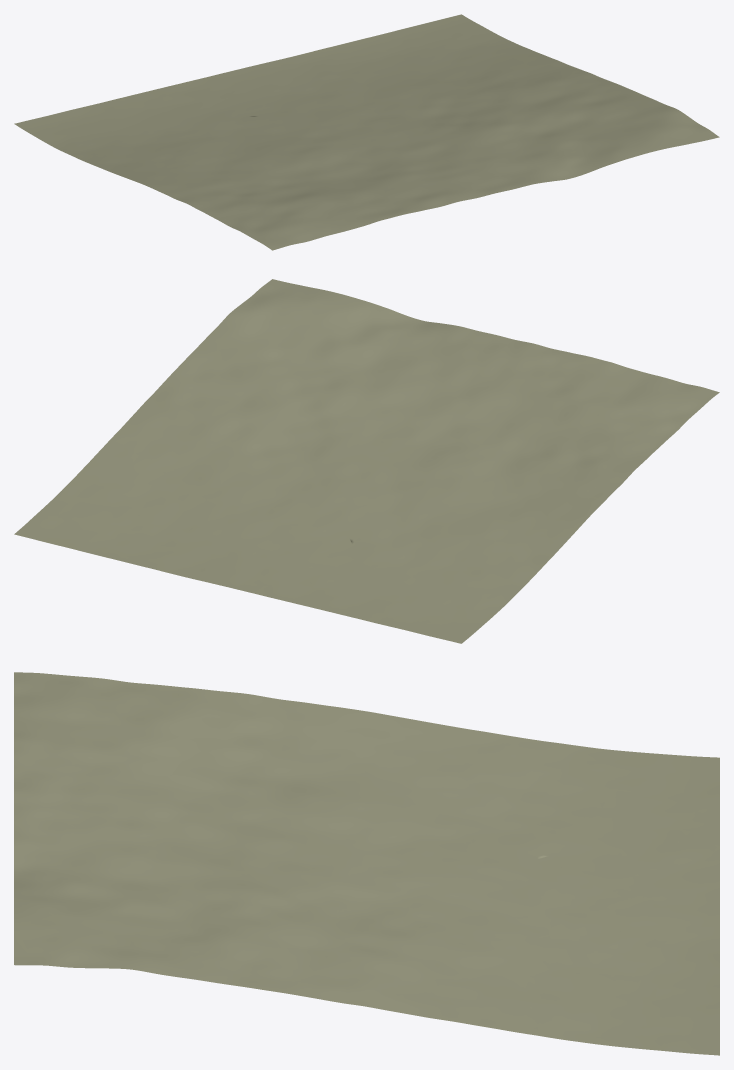
The model's file is SM_VB_CityTerrain_5_6.fbx.
The picture shows the model from 3 angles, top to bottom: view 1: azimuth 30°, elevation 25°; view 2: azimuth 150°, elevation 25°; view 3: azimuth 270°, elevation 25°; orthographic projection. The views are drawn at different scales.
Parts seen in each view (by area): view 1: SM_VB_CityTerrain_5_6; view 2: SM_VB_CityTerrain_5_6; view 3: SM_VB_CityTerrain_5_6.
Part boxes in pixels (left/top/right/bottom): SM_VB_CityTerrain_5_6: left=14, top=14, right=719, bottom=250; SM_VB_CityTerrain_5_6: left=14, top=279, right=719, bottom=643; SM_VB_CityTerrain_5_6: left=14, top=672, right=719, bottom=1055.
Bounding box in the file's own units: 600 × 88.47 × 600.
